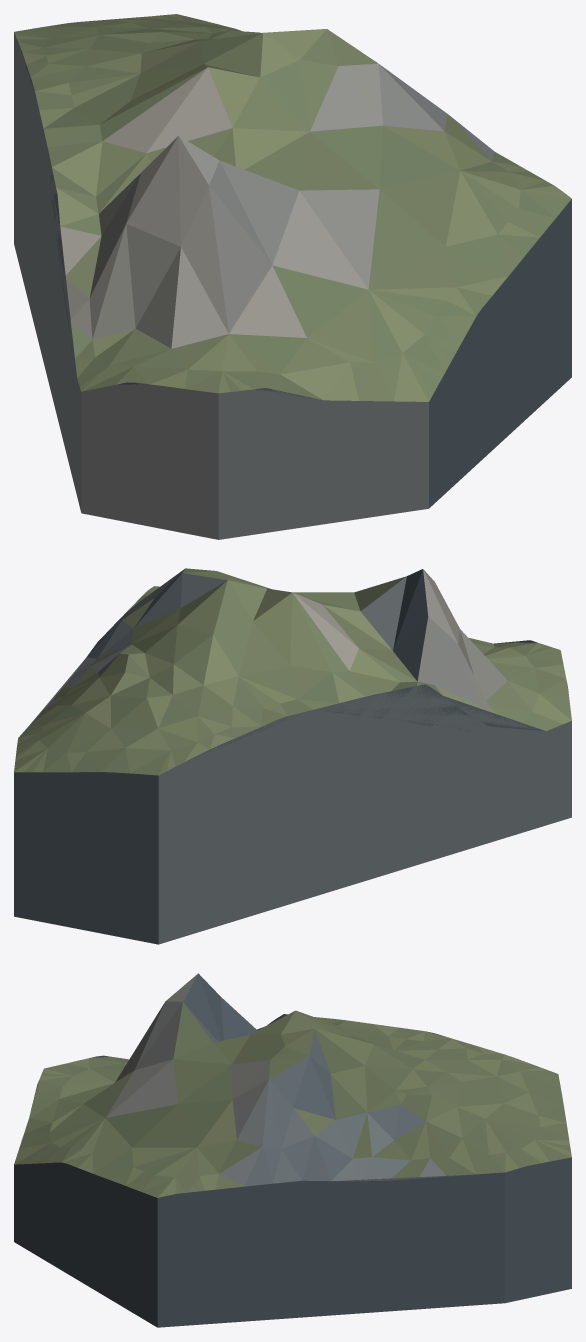
File: cliff_sections_10g_eastern_plateau.glb
3 views of the same model, one above another, from view 1: azimuth 30°, elevation 25°; view 2: azimuth 150°, elevation 25°; view 3: azimuth 270°, elevation 25° (orthographic). The views are drawn at different scales.
Parts seen in each view (by area): view 1: cliff_eastern_plateau; view 2: cliff_eastern_plateau; view 3: cliff_eastern_plateau.
Boxes of the visible parts, x1,y1,x2,y2 form: cliff_eastern_plateau: (14,14,571,539); cliff_eastern_plateau: (14,568,571,944); cliff_eastern_plateau: (14,973,571,1327).
Size of the model in its own units: 130 by 77 by 171.
